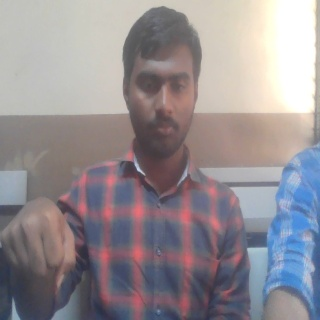Face: (121, 4, 202, 159)
Yes: (1, 196, 80, 297)
